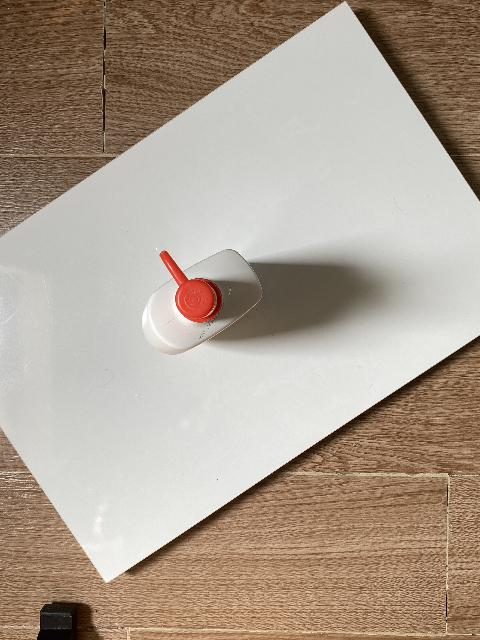life-buoy: (142, 249, 263, 356)
